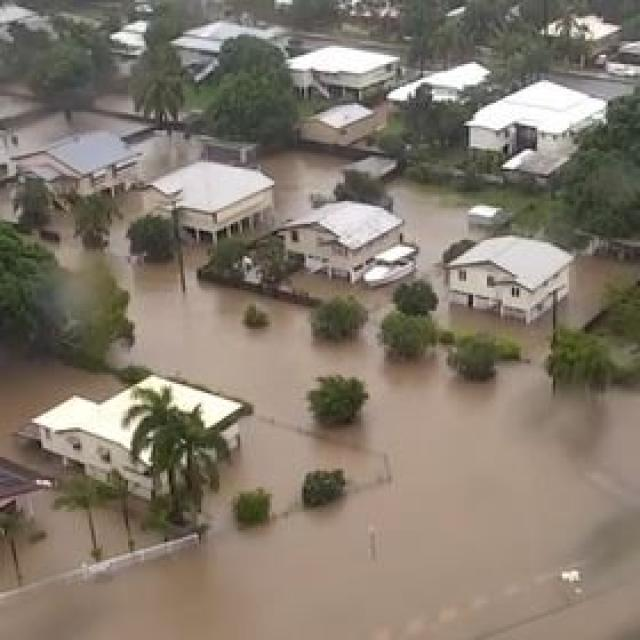flooded_areas: (2, 66, 638, 638)
